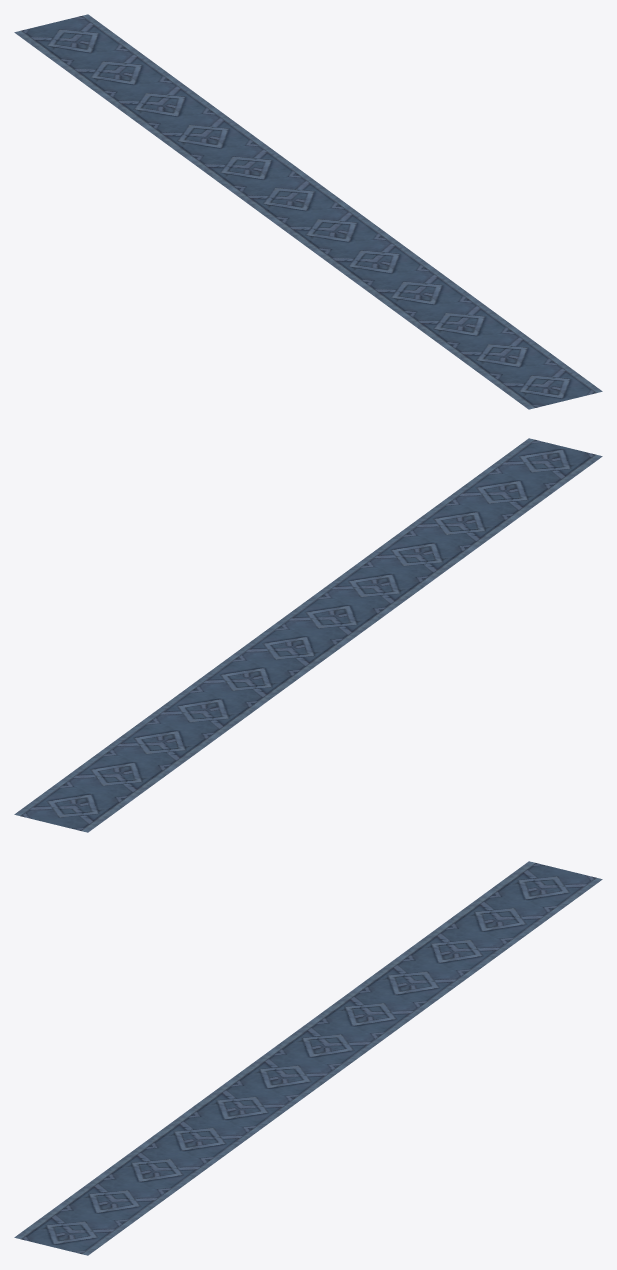
File: Area_07_6.fbx
The picture shows the model from 3 angles, top to bottom: view 1: azimuth 30°, elevation 25°; view 2: azimuth 150°, elevation 25°; view 3: azimuth 330°, elevation 25°; orthographic projection.
Parts seen in each view (by area): view 1: Area_07_6; view 2: Area_07_6; view 3: Area_07_6.
Boxes of the visible parts, left/top/right/bottom form: Area_07_6: left=14, top=14, right=602, bottom=409; Area_07_6: left=14, top=438, right=602, bottom=832; Area_07_6: left=14, top=861, right=602, bottom=1255.
Bounding box in the file's own units: 609 × 0.000424 × 7276.
Materials: 1 (1 with a texture image).
